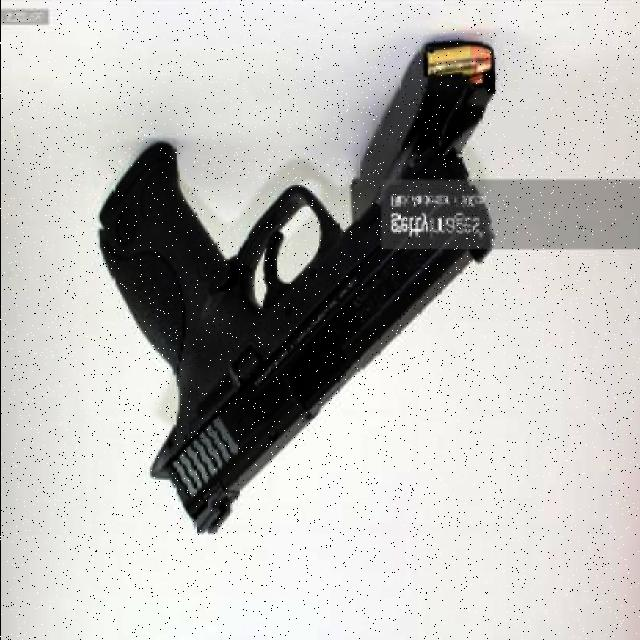Guns: (91, 143, 489, 532)
